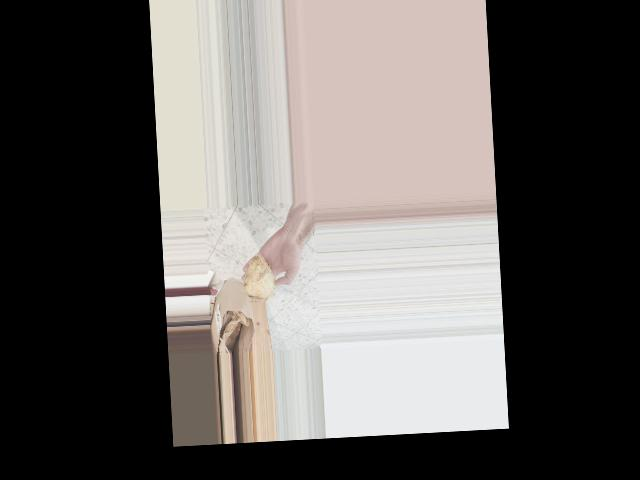onion: (240, 252, 279, 302)
